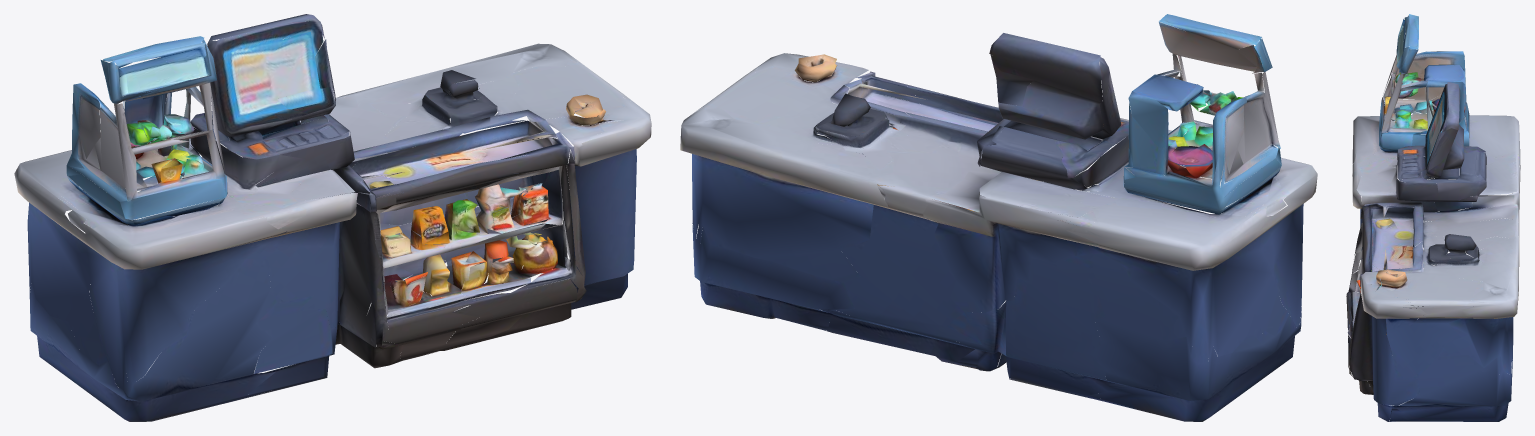
Rendered from konbini_counter.glb.
3 views of the same model, side by side, from view 1: azimuth 30°, elevation 25°; view 2: azimuth 150°, elevation 25°; view 3: azimuth 270°, elevation 25° (orthographic). The views are drawn at different scales.
Parts seen in each view (by area): view 1: tripo_node_0ceaef68-d1da-48ee-b182-4101e597808f; view 2: tripo_node_0ceaef68-d1da-48ee-b182-4101e597808f; view 3: tripo_node_0ceaef68-d1da-48ee-b182-4101e597808f.
Boxes of the visible parts, x1,y1,x2,y2 form: tripo_node_0ceaef68-d1da-48ee-b182-4101e597808f: [14, 14, 651, 421]; tripo_node_0ceaef68-d1da-48ee-b182-4101e597808f: [680, 14, 1317, 421]; tripo_node_0ceaef68-d1da-48ee-b182-4101e597808f: [1346, 14, 1520, 421].
Bounding box in the file's own units: 1 × 0.5989 × 0.3964.
1 material, 1 textured.
